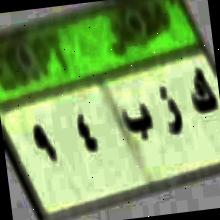4: (72, 104, 104, 170)
9: (28, 104, 62, 173)
baa: (118, 88, 159, 151)
kaaf: (186, 60, 220, 130)
zay: (155, 76, 188, 150)
